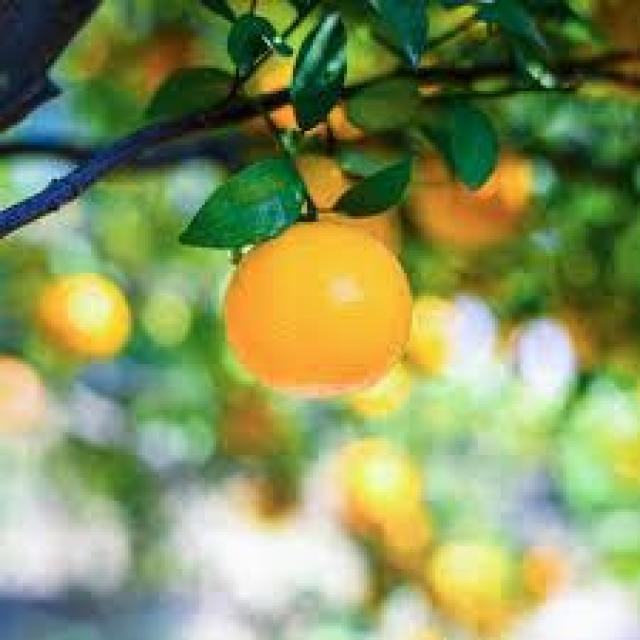fruit: (216, 215, 422, 402), (408, 149, 536, 247), (328, 436, 428, 531), (35, 270, 133, 361), (432, 543, 520, 626), (250, 57, 328, 137), (123, 27, 199, 100), (318, 63, 372, 146), (220, 389, 286, 456), (0, 357, 50, 433), (328, 198, 399, 250), (291, 152, 352, 211), (536, 310, 594, 368), (70, 19, 124, 80), (245, 472, 298, 520), (575, 76, 639, 113), (602, 428, 640, 490), (593, 340, 640, 390), (523, 548, 568, 600), (498, 315, 538, 363), (413, 149, 452, 188), (462, 16, 496, 46), (399, 620, 450, 640), (415, 80, 446, 103)
